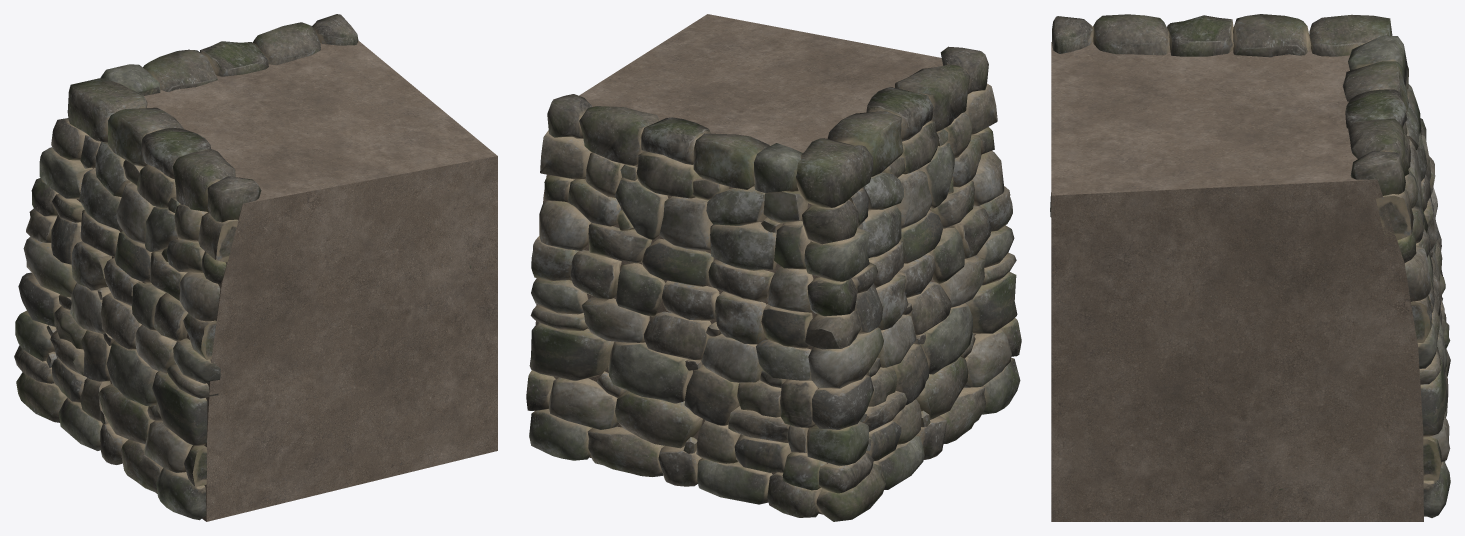
The model's file is SM_Gidan02a.fbx.
The picture shows the model from 3 angles, left to right: view 1: azimuth 30°, elevation 25°; view 2: azimuth 150°, elevation 25°; view 3: azimuth 270°, elevation 25°; orthographic projection. The views are drawn at different scales.
Visible parts, largest first — view 1: SM_Gidan02a; view 2: SM_Gidan02a; view 3: SM_Gidan02a.
Boxes of the visible parts, box(x1,y1,x2,y2) form: SM_Gidan02a: box(14, 14, 497, 521); SM_Gidan02a: box(526, 14, 1021, 521); SM_Gidan02a: box(1050, 14, 1450, 521).
Size of the model in its own units: 322 by 323 by 324.
2 materials, 2 textured.
